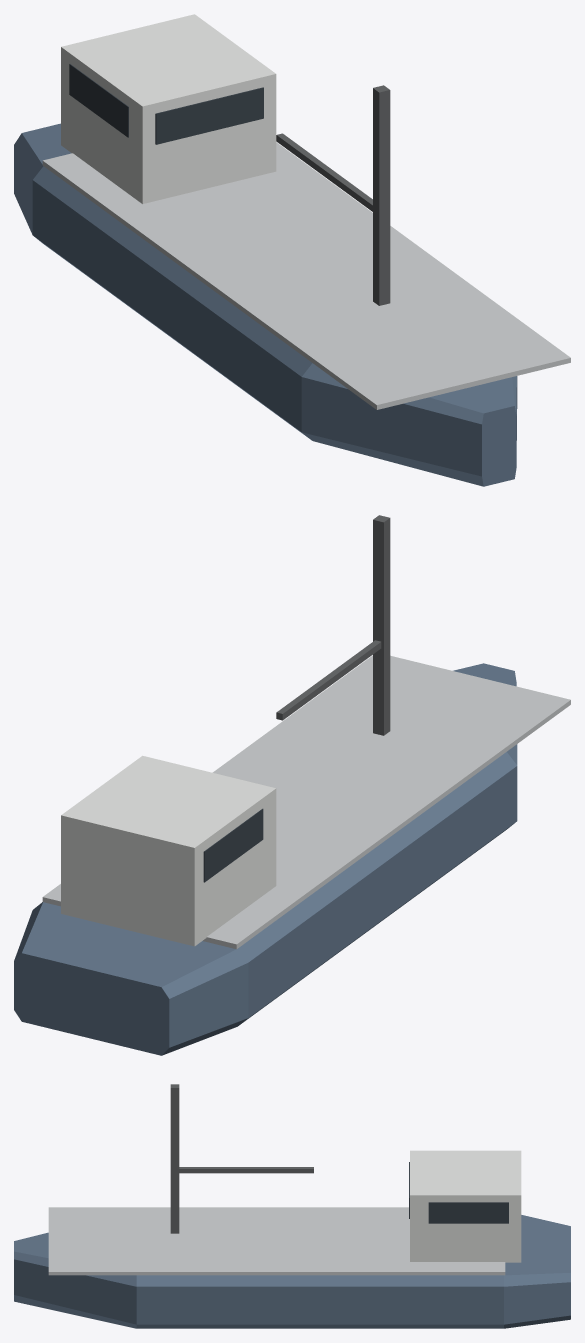
Rendered from vessel-fishing.glb.
3 views of the same model, one above another, from view 1: azimuth 30°, elevation 25°; view 2: azimuth 150°, elevation 25°; view 3: azimuth 270°, elevation 25° (orthographic). The views are drawn at different scales.
Visible parts, largest first — view 1: vessel-fishing; view 2: vessel-fishing; view 3: vessel-fishing.
Part boxes in pixels (<box>): vessel-fishing: <box>14,14,570,486</box>; vessel-fishing: <box>14,515,570,1055</box>; vessel-fishing: <box>14,1084,570,1328</box>.
Bounding box in the file's own units: 5.5 × 7.5 × 18.
